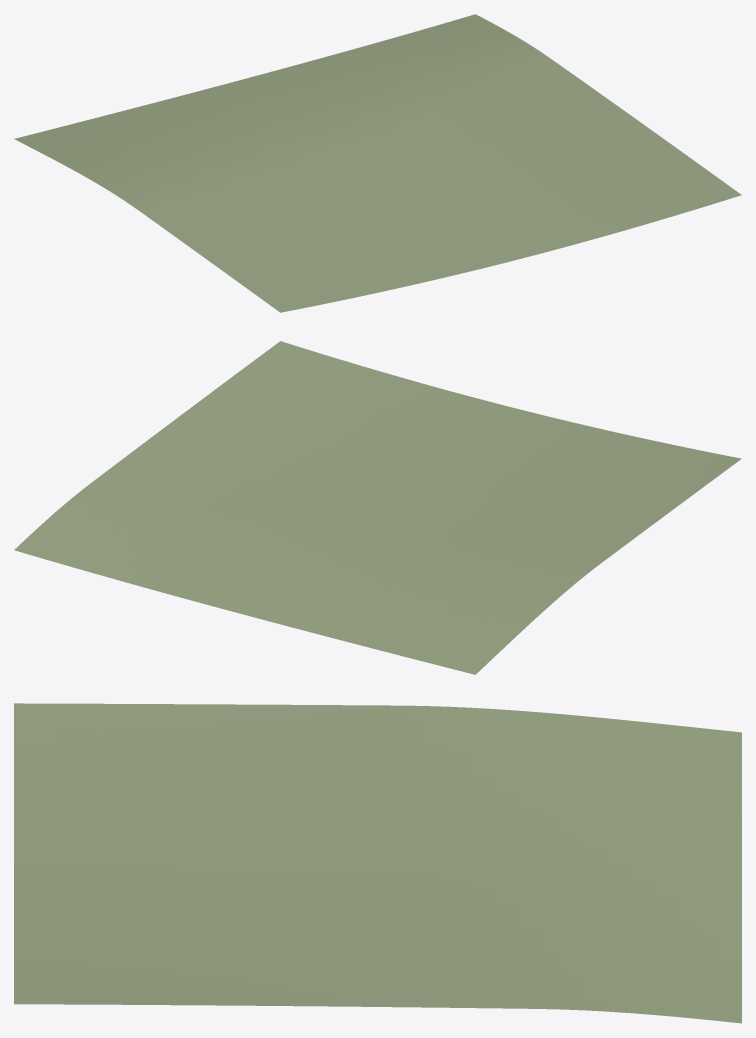
The model's file is valley-4-9.glb.
The picture shows the model from 3 angles, top to bottom: view 1: azimuth 30°, elevation 25°; view 2: azimuth 150°, elevation 25°; view 3: azimuth 270°, elevation 25°; orthographic projection. The views are drawn at different scales.
Visible parts, largest first — view 1: valley-4-9; view 2: valley-4-9; view 3: valley-4-9.
Boxes of the visible parts, x1,y1,x2,y2 form: valley-4-9: [14, 14, 741, 312]; valley-4-9: [14, 341, 741, 674]; valley-4-9: [14, 703, 741, 1023].
Size of the model in its own units: 256 by 13.91 by 256.
